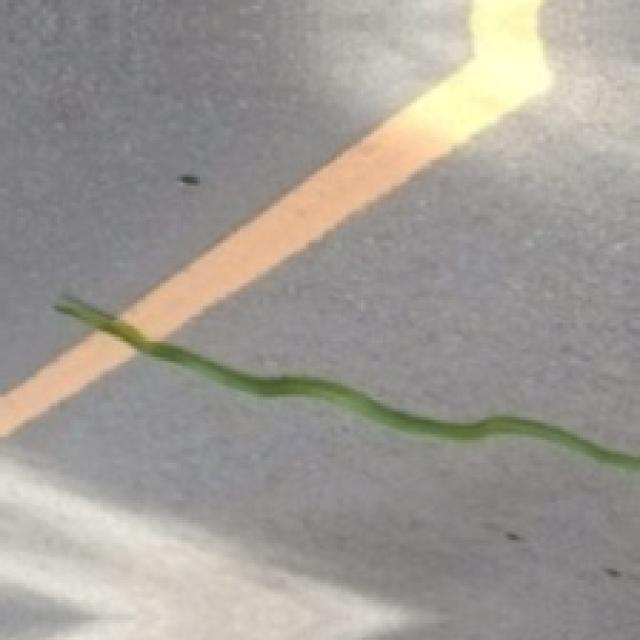red-tailed green ratsnake: (54, 297, 637, 471)
